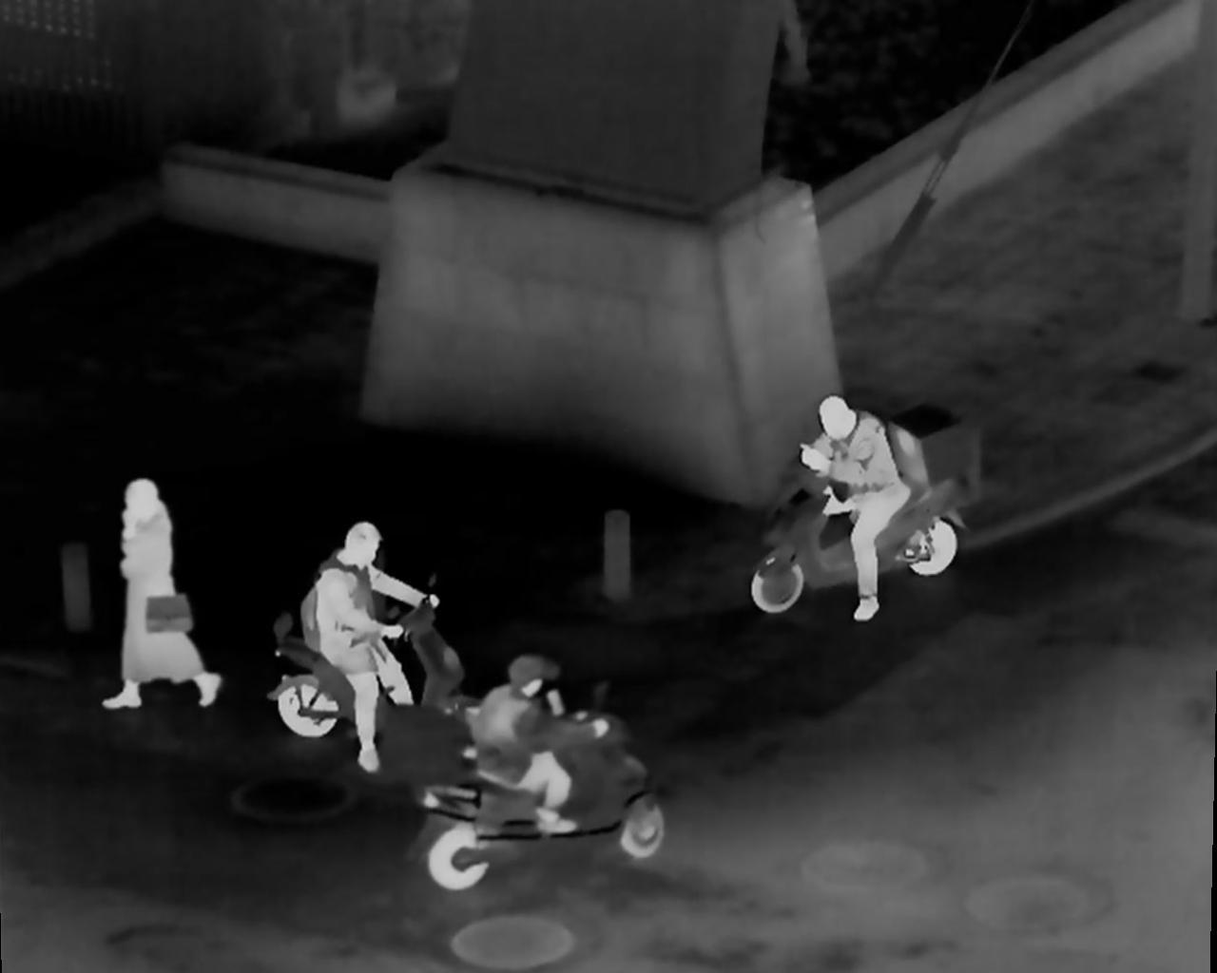person: (105, 481, 216, 706), (315, 519, 413, 750), (811, 396, 909, 623), (488, 639, 589, 825)
